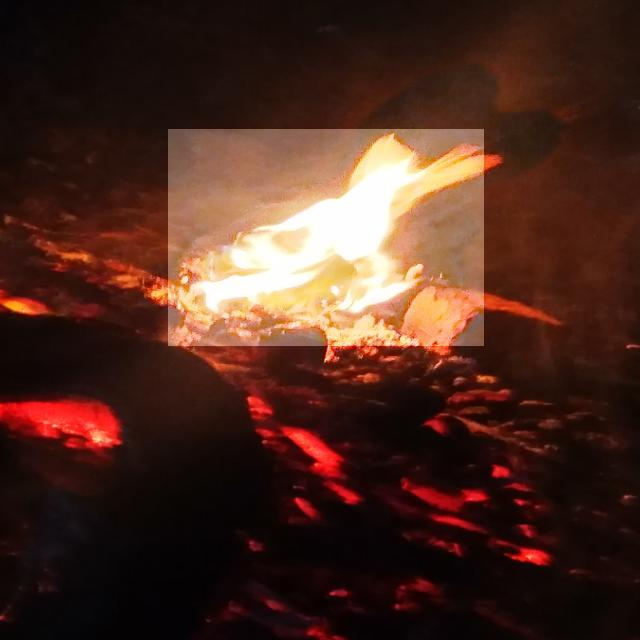Fire: (168, 129, 484, 346)
